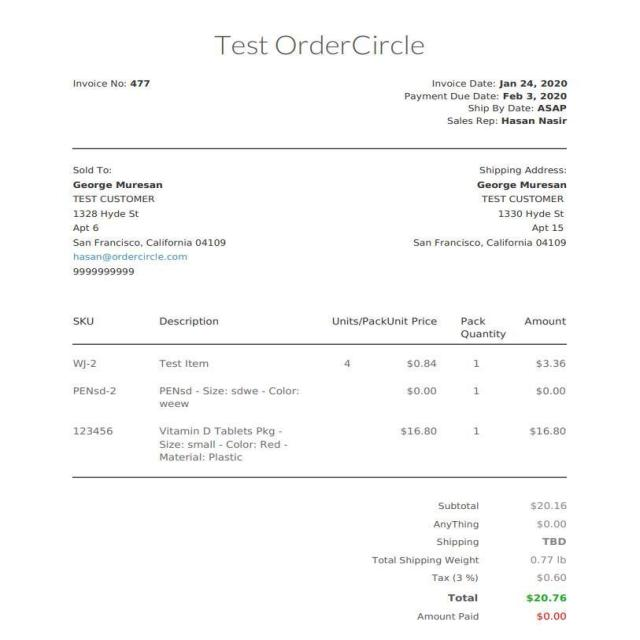paragraph: (363, 489, 582, 628), (59, 156, 233, 283), (408, 156, 574, 257), (401, 71, 584, 132), (209, 24, 432, 63), (70, 71, 155, 96)
table: (57, 301, 582, 473)
